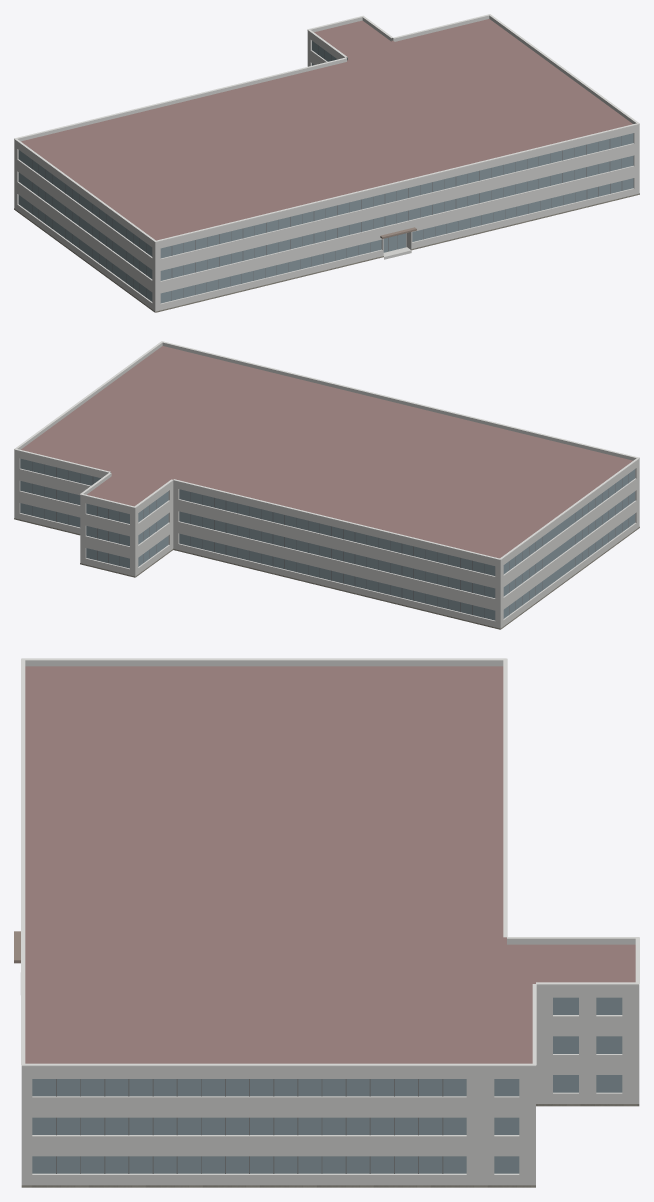
The picture shows the model from 3 angles, top to bottom: view 1: azimuth 30°, elevation 25°; view 2: azimuth 150°, elevation 25°; view 3: azimuth 270°, elevation 25°; orthographic projection. The views are drawn at different scales.
Parts seen in each view (by area): view 1: osm639992760__roof, osm639992760__wall, osm639992760__glass, osm639992760__parapet, osm639992760__trim, osm639992760__frame, osm639992760__base; view 2: osm639992760__roof, osm639992760__wall, osm639992760__glass, osm639992760__parapet, osm639992760__trim, osm639992760__frame, osm639992760__base; view 3: osm639992760__roof, osm639992760__wall, osm639992760__glass, osm639992760__trim, osm639992760__parapet, osm639992760__base, osm639992760__frame.
Boxes of the visible parts, x1,y1,x2,y2 form: osm639992760__roof: [21, 19, 632, 240]; osm639992760__wall: [14, 33, 639, 312]; osm639992760__glass: [18, 41, 633, 303]; osm639992760__parapet: [14, 15, 639, 244]; osm639992760__trim: [14, 14, 639, 242]; osm639992760__frame: [32, 45, 622, 300]; osm639992760__base: [14, 193, 639, 312]; osm639992760__roof: [21, 346, 632, 558]; osm639992760__wall: [14, 452, 639, 629]; osm639992760__glass: [20, 458, 635, 620]; osm639992760__parapet: [14, 342, 639, 562]; osm639992760__trim: [14, 341, 639, 560]; osm639992760__frame: [32, 462, 628, 617]; osm639992760__base: [14, 518, 639, 629]; osm639992760__roof: [25, 666, 635, 1063]; osm639992760__wall: [21, 990, 639, 1185]; osm639992760__glass: [32, 997, 622, 1173]; osm639992760__trim: [21, 658, 639, 1066]; osm639992760__parapet: [21, 660, 639, 1070]; osm639992760__base: [21, 1104, 639, 1187]; osm639992760__frame: [56, 1079, 443, 1173].
Size of the model in its own units: 81.16 by 11.75 by 52.75.
10 materials, 1 textured.
